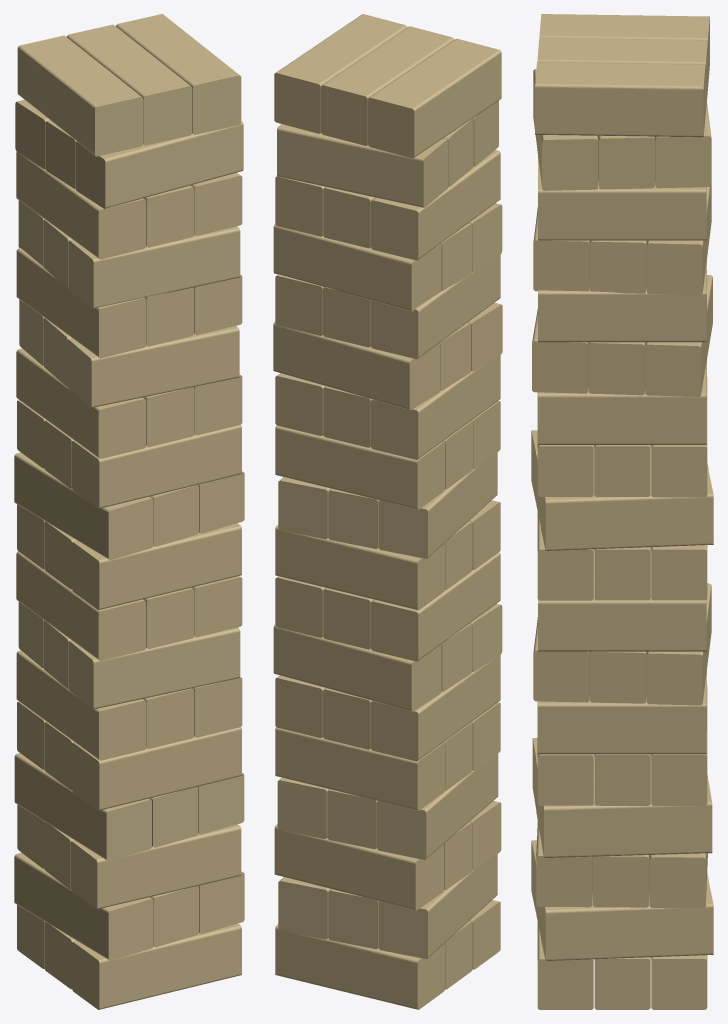
Rendered from jenga_Mdl.fbx.
The picture shows the model from 3 angles, left to right: view 1: azimuth 30°, elevation 25°; view 2: azimuth 150°, elevation 25°; view 3: azimuth 270°, elevation 25°; orthographic projection. The views are drawn at different scales.
Parts seen in each view (by area): view 1: Jenga_pza_54, Jenga_pza_37, Jenga_pza_45, Jenga_pza_25, Jenga_pza_21, Jenga_pza_1, Jenga_pza_9, Jenga_pza_49, Jenga_pza_13, Jenga_pza_33, Jenga_pza_30, Jenga_pza_6 (+42 smaller); view 2: Jenga_pza_54, Jenga_pza_51, Jenga_pza_31, Jenga_pza_27, Jenga_pza_43, Jenga_pza_15, Jenga_pza_7, Jenga_pza_39, Jenga_pza_19, Jenga_pza_3, Jenga_pza_46, Jenga_pza_22 (+42 smaller); view 3: Jenga_pza_52, Jenga_pza_28, Jenga_pza_4, Jenga_pza_48, Jenga_pza_24, Jenga_pza_12, Jenga_pza_16, Jenga_pza_36, Jenga_pza_40, Jenga_pza_53, Jenga_pza_54, Jenga_pza_39 (+27 smaller).
Boxes of the visible parts, x1,y1,x2,y2 form: Jenga_pza_54: (17, 35, 143, 156); Jenga_pza_37: (67, 326, 239, 407); Jenga_pza_45: (68, 226, 240, 308); Jenga_pza_25: (72, 523, 241, 609); Jenga_pza_21: (68, 627, 240, 709); Jenga_pza_1: (72, 923, 241, 1009); Jenga_pza_9: (71, 824, 241, 909); Jenga_pza_49: (75, 121, 243, 208); Jenga_pza_13: (72, 727, 241, 810); Jenga_pza_33: (72, 425, 241, 508); Jenga_pza_30: (14, 452, 153, 560); Jenga_pza_6: (14, 852, 153, 960); Jenga_pza_54: (368, 38, 501, 158); Jenga_pza_51: (277, 124, 448, 207); Jenga_pza_31: (275, 425, 444, 509); Jenga_pza_27: (275, 525, 444, 610); Jenga_pza_43: (273, 224, 441, 311); Jenga_pza_15: (275, 727, 444, 810); Jenga_pza_7: (274, 824, 443, 910); Jenga_pza_39: (273, 321, 440, 410); Jenga_pza_19: (273, 624, 441, 711); Jenga_pza_3: (275, 924, 444, 1009); Jenga_pza_46: (371, 150, 500, 260); Jenga_pza_22: (371, 552, 500, 661); Jenga_pza_52: (535, 62, 705, 137); Jenga_pza_28: (541, 472, 713, 550); Jenga_pza_4: (541, 882, 713, 960); Jenga_pza_48: (538, 168, 706, 240); Jenga_pza_24: (538, 579, 706, 651); Jenga_pza_12: (540, 780, 712, 857); Jenga_pza_16: (538, 681, 706, 754); Jenga_pza_36: (538, 372, 706, 444); Jenga_pza_40: (538, 269, 706, 342); Jenga_pza_53: (537, 38, 707, 112); Jenga_pza_54: (539, 14, 709, 86); Jenga_pza_39: (645, 275, 712, 396).
Size of the model in its own units: 655 by 3637 by 651.
